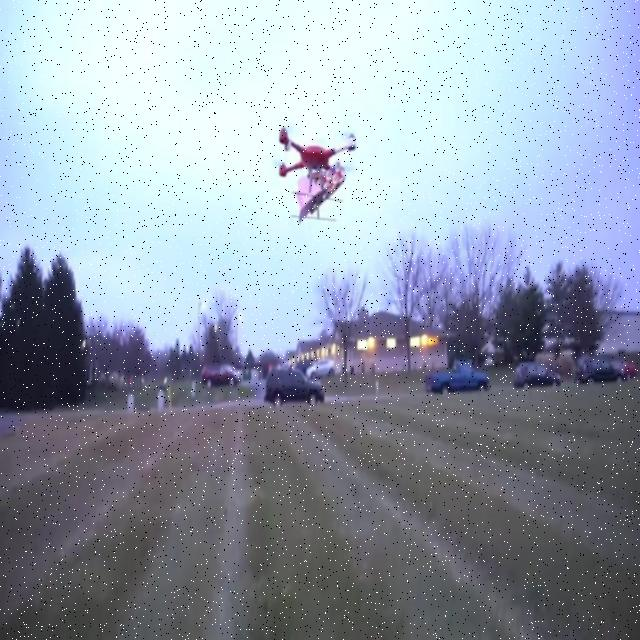UAV: (280, 127, 356, 224)
